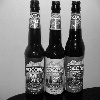beer: (23, 1, 46, 98)
